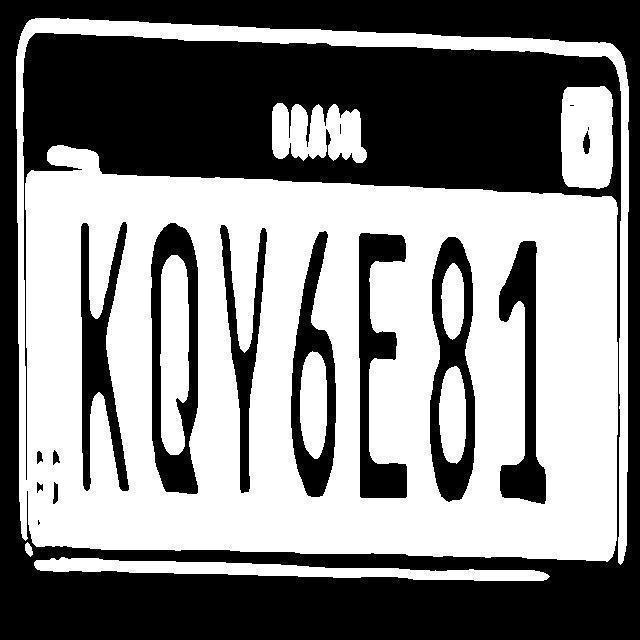1: (493, 238, 571, 514)
6: (288, 229, 350, 508)
8: (421, 230, 496, 507)
e: (350, 221, 425, 507)
k: (74, 212, 138, 497)
q: (138, 218, 213, 502)
y: (214, 222, 286, 499)
